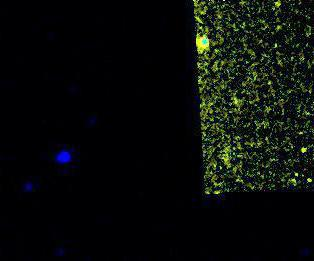star: (288, 135, 314, 165)
